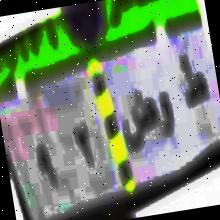2: (71, 115, 101, 176)
9: (30, 143, 64, 200)
Taa: (174, 46, 212, 118)
daad: (115, 82, 164, 159)
waw: (156, 88, 178, 142)
